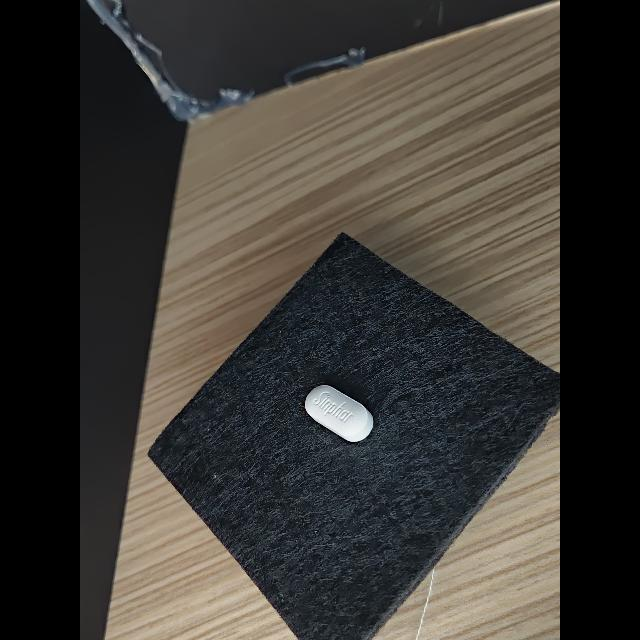Intact Pill: (305, 385, 373, 442)
